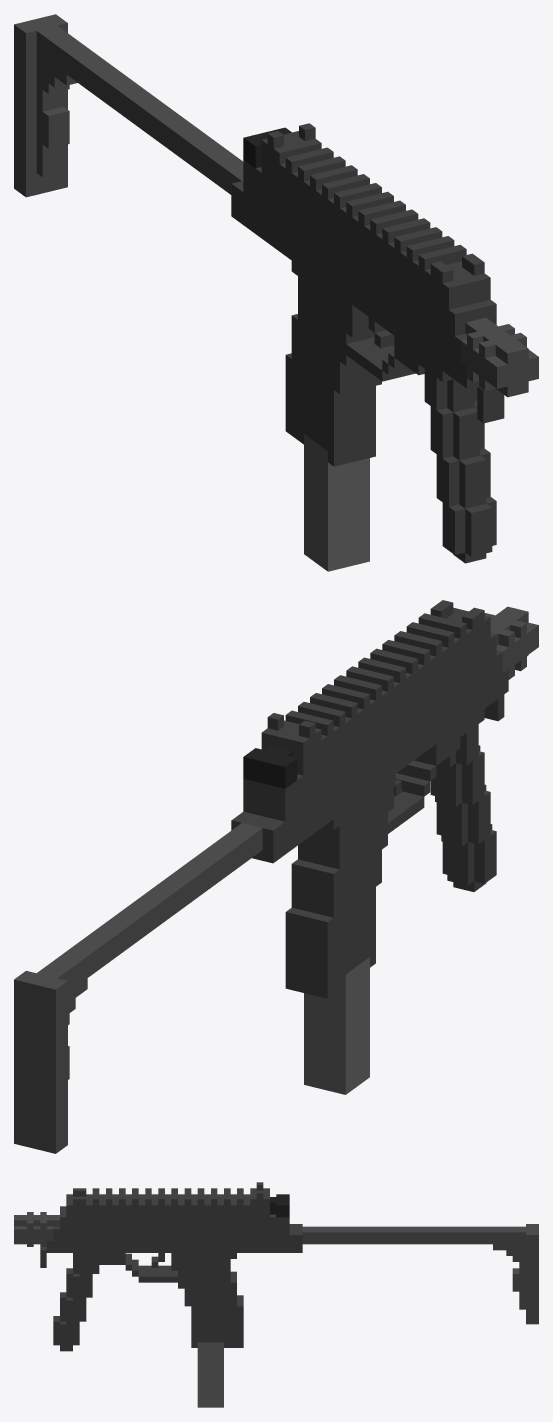
The model's file is SMG_3.obj.
The picture shows the model from 3 angles, top to bottom: view 1: azimuth 30°, elevation 25°; view 2: azimuth 150°, elevation 25°; view 3: azimuth 270°, elevation 25°; orthographic projection. The views are drawn at different scales.
Size of the model in its own units: 4 by 36 by 80.
